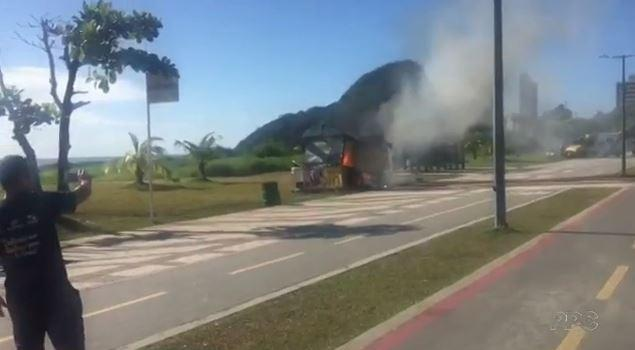smoke: (408, 71, 490, 147)
